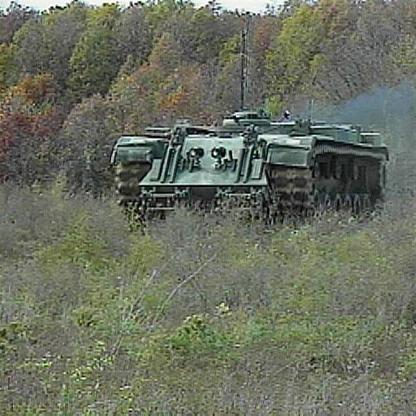Tank: (106, 94, 395, 243)
